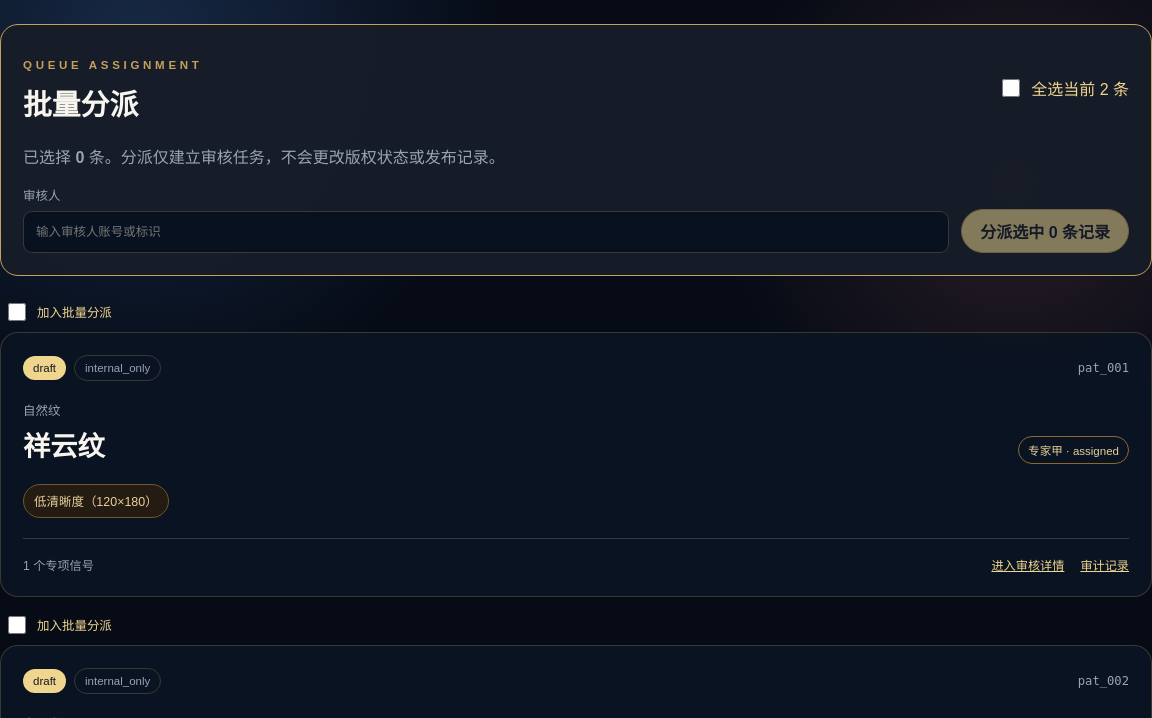
ReviewQueueBoard › selects only requested ids and renders derived specialty signals
Click the checkbox named "选择 祥云纹": (17, 312) [8,303,26,321]
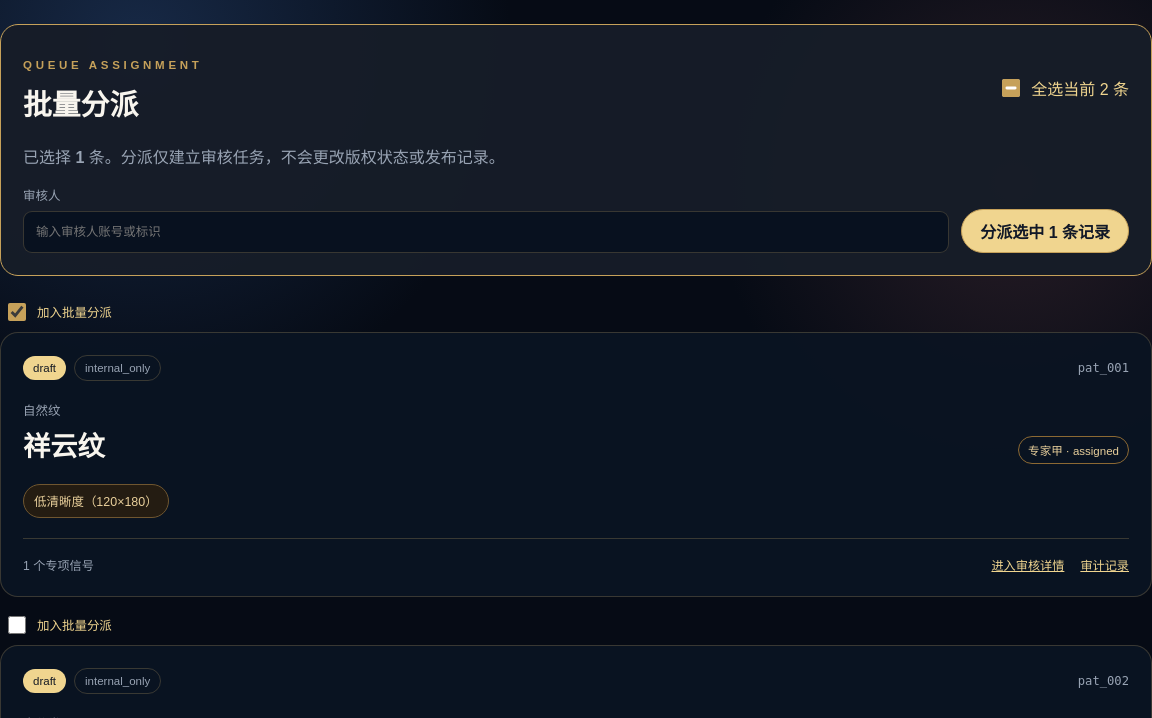
Check: the form named "selectedIds" holds "pat_001", box [23,186,1129,253]
Check: the element with class "batch-selection" shows "已选择 1 条", box [23,149,505,166]
